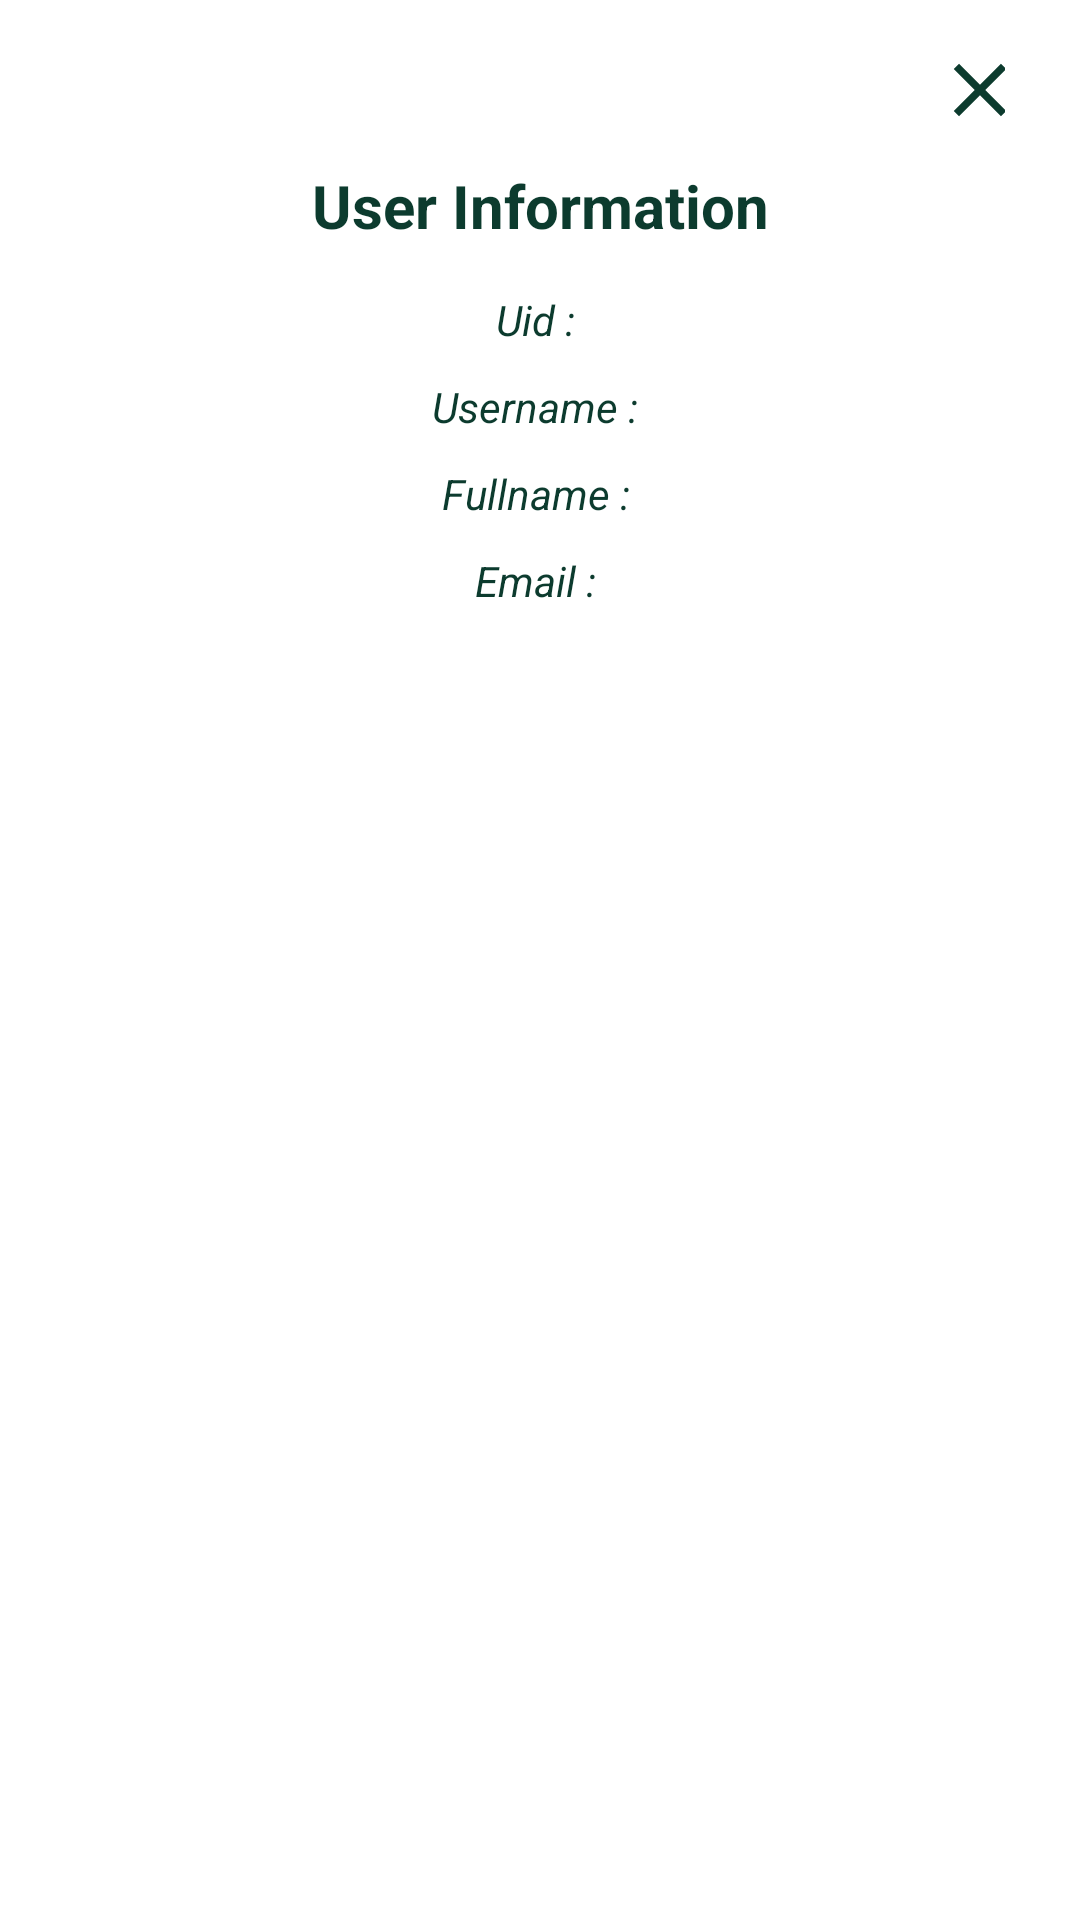

Point at icon controls on the screen. Image size 1080 x 1920, points as (x=x, y=y).
close: (x=979, y=90)
